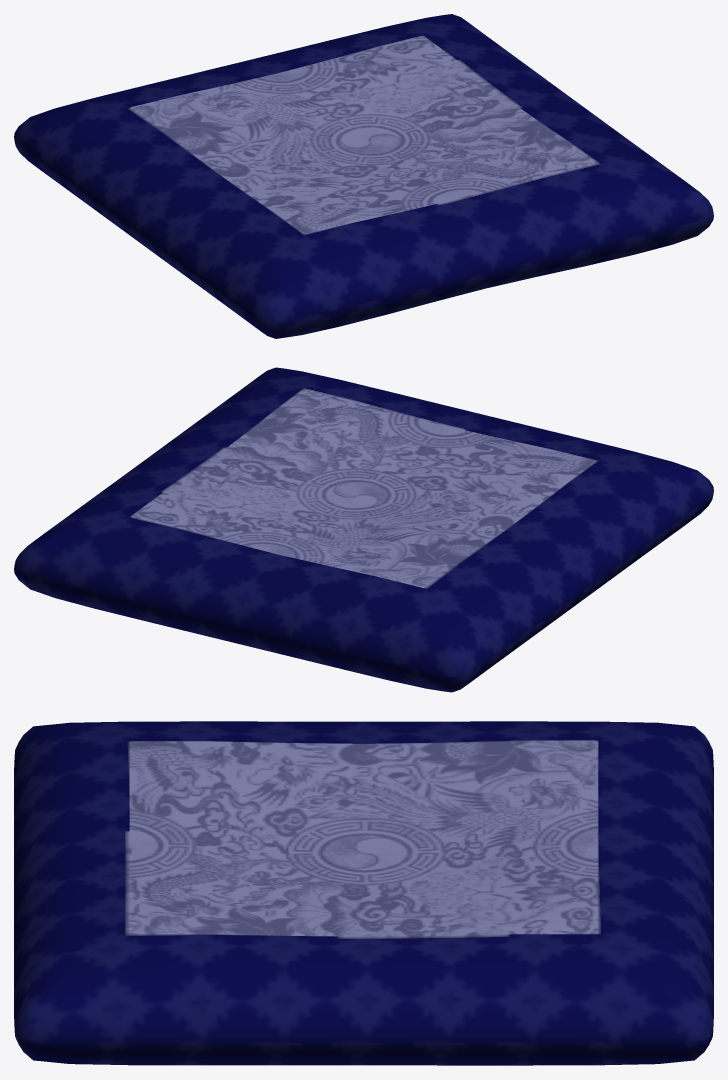
Rendered from Cushion.fbx.
3 views of the same model, one above another, from view 1: azimuth 30°, elevation 25°; view 2: azimuth 150°, elevation 25°; view 3: azimuth 270°, elevation 25° (orthographic). The views are drawn at different scales.
Visible parts, largest first — view 1: Cushion; view 2: Cushion; view 3: Cushion.
Part boxes in pixels (bbox=[...]): Cushion: bbox=[14, 14, 713, 338]; Cushion: bbox=[14, 367, 713, 692]; Cushion: bbox=[14, 721, 713, 1065].
Size of the model in its own units: 52.78 by 9.29 by 52.32.
